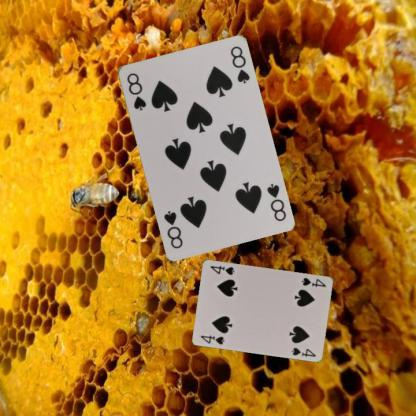4s: (198, 332, 226, 346), (299, 275, 328, 288)
8s: (264, 180, 287, 223), (124, 70, 147, 111)
